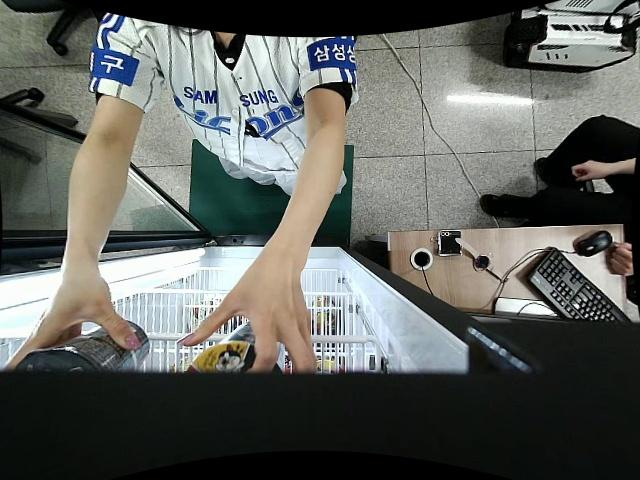00_hand: (176, 263, 319, 380), (0, 271, 142, 376)
08_buldak_S: (20, 316, 151, 375), (184, 322, 292, 378)
